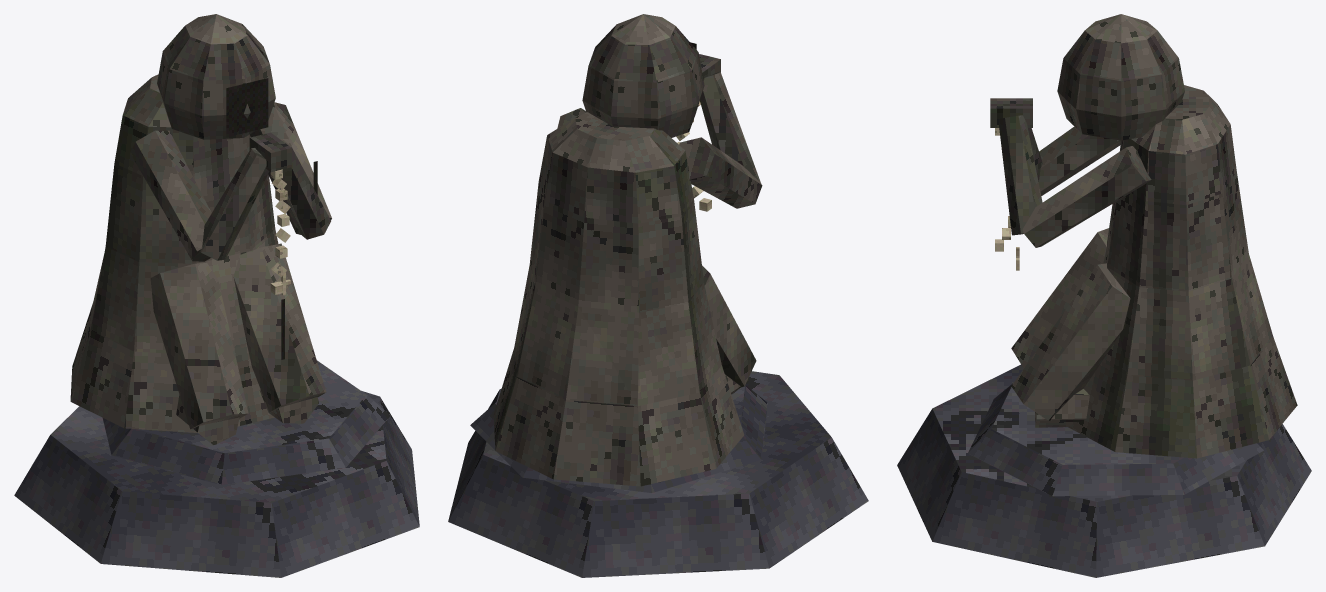
Rendered from estatua_orante.obj.
The picture shows the model from 3 angles, left to right: view 1: azimuth 30°, elevation 25°; view 2: azimuth 150°, elevation 25°; view 3: azimuth 270°, elevation 25°; orthographic projection. The views are drawn at different scales.
Parts seen in each view (by area): view 1: estatua_orante; view 2: estatua_orante; view 3: estatua_orante.
Part boxes in pixels (x1,y1,x2,y2): estatua_orante: [14, 14, 419, 577]; estatua_orante: [448, 14, 868, 577]; estatua_orante: [897, 14, 1311, 577].
Bounding box in the file's own units: 1.34 × 1.72 × 1.36.
Materials: 4 (4 with a texture image).
